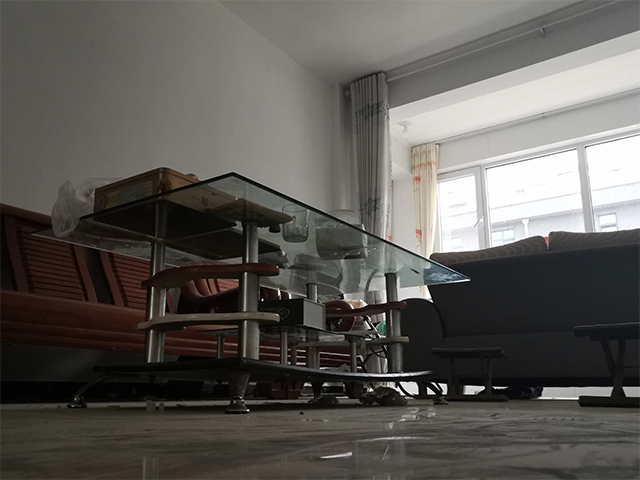curtain: (348, 72, 391, 240), (409, 139, 435, 257)
sofa: (396, 226, 640, 399)
stool: (1, 207, 105, 401), (570, 320, 640, 410), (427, 345, 509, 403)
table: (28, 170, 473, 415)
